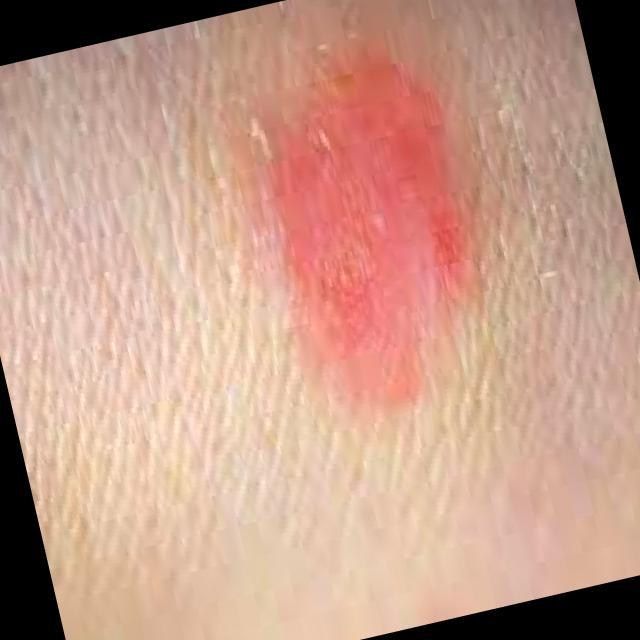Eczema: (264, 50, 472, 394)
